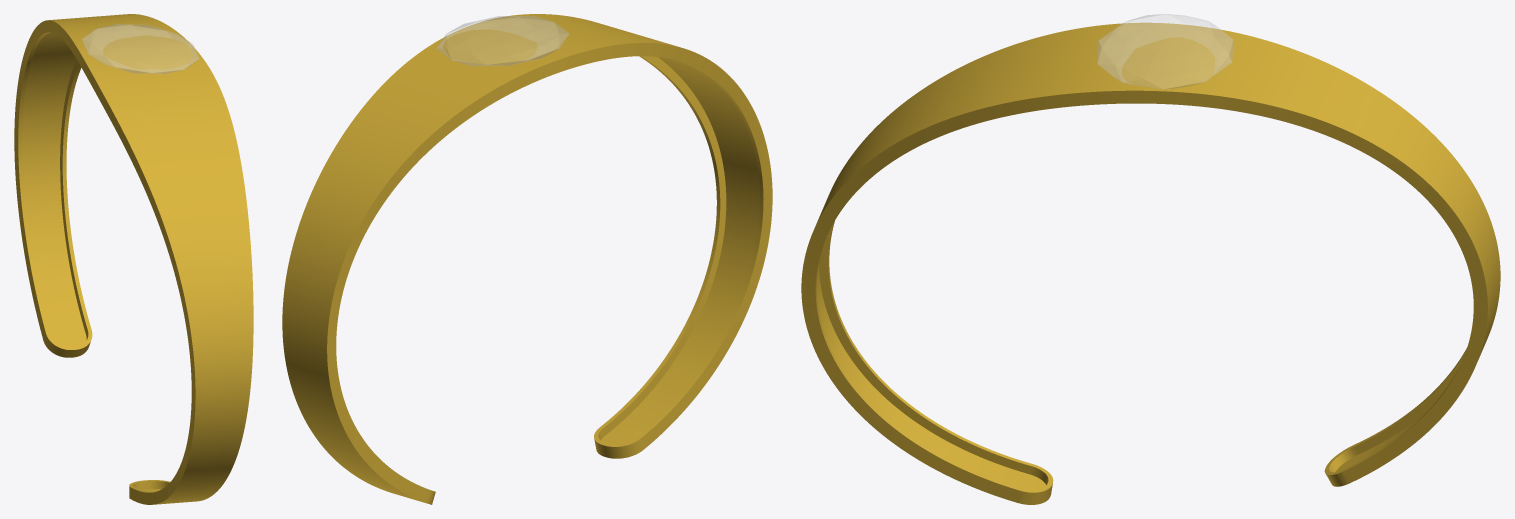
Rendered from braslet.glb.
The picture shows the model from 3 angles, left to right: view 1: azimuth 30°, elevation 25°; view 2: azimuth 150°, elevation 25°; view 3: azimuth 270°, elevation 25°; orthographic projection. The views are drawn at different scales.
Parts seen in each view (by area): view 1: braslet_material, braslet_gem; view 2: braslet_material, braslet_gem; view 3: braslet_material, braslet_gem.
Part boxes in pixels (left/top/right/bottom): braslet_material: left=14, top=14, right=253, bottom=504; braslet_gem: left=82, top=24, right=199, bottom=73; braslet_material: left=282, top=14, right=772, bottom=504; braslet_gem: left=436, top=16, right=569, bottom=65; braslet_material: left=801, top=22, right=1500, bottom=504; braslet_gem: left=1097, top=14, right=1232, bottom=88.
Size of the model in its own units: 0.897 by 2.22 by 2.91.
